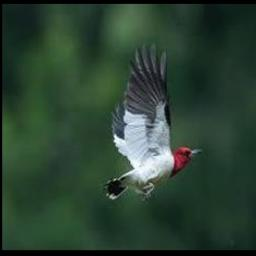Woodpecker: (101, 42, 202, 200)
